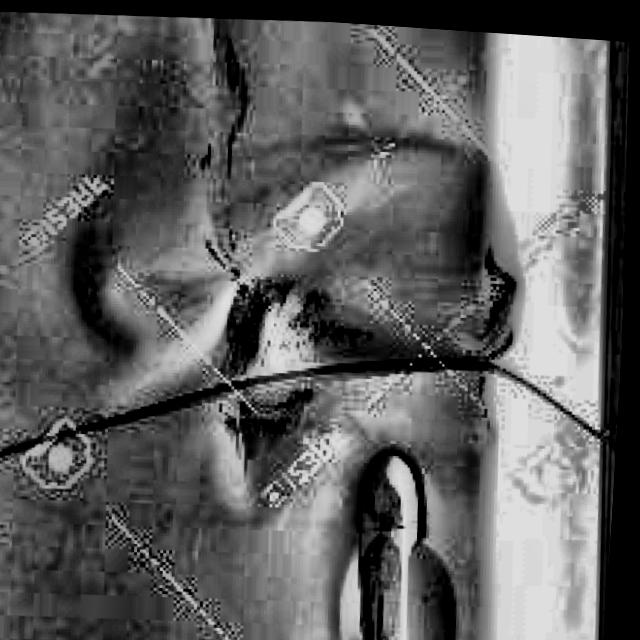door_dent: (46, 115, 535, 363), (183, 254, 383, 502)
door_scratch: (212, 270, 303, 369), (469, 250, 532, 380)
